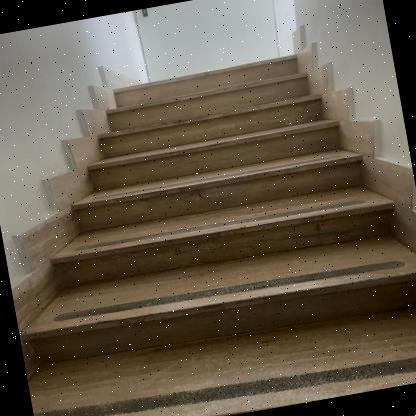stair: (5, 20, 409, 416)
